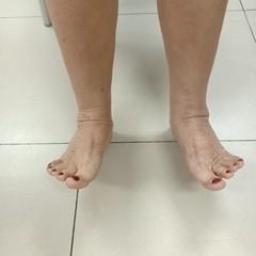Front View -Both Feet-: (30, 78, 252, 212)
